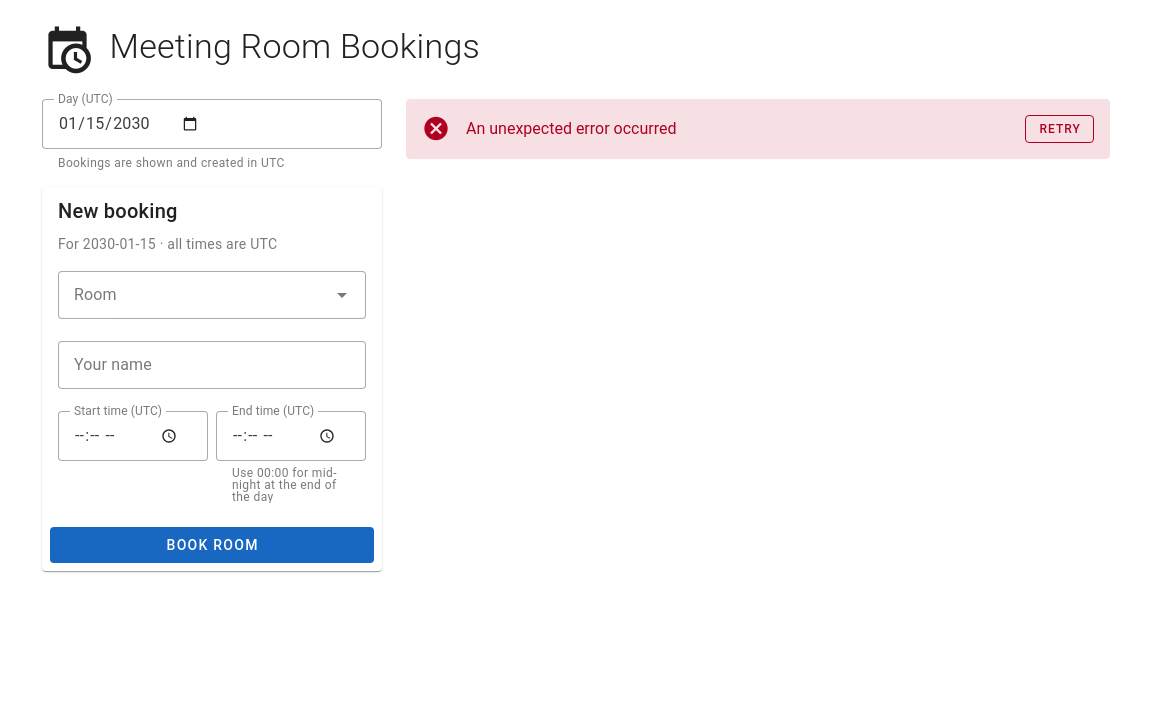
it: RoomBookings › shows a load error and recovers when Retry is clicked
Expected: the text "Room A" is not shown
Click the button "Retry" at (1060, 129), box [1025,115,1094,143]
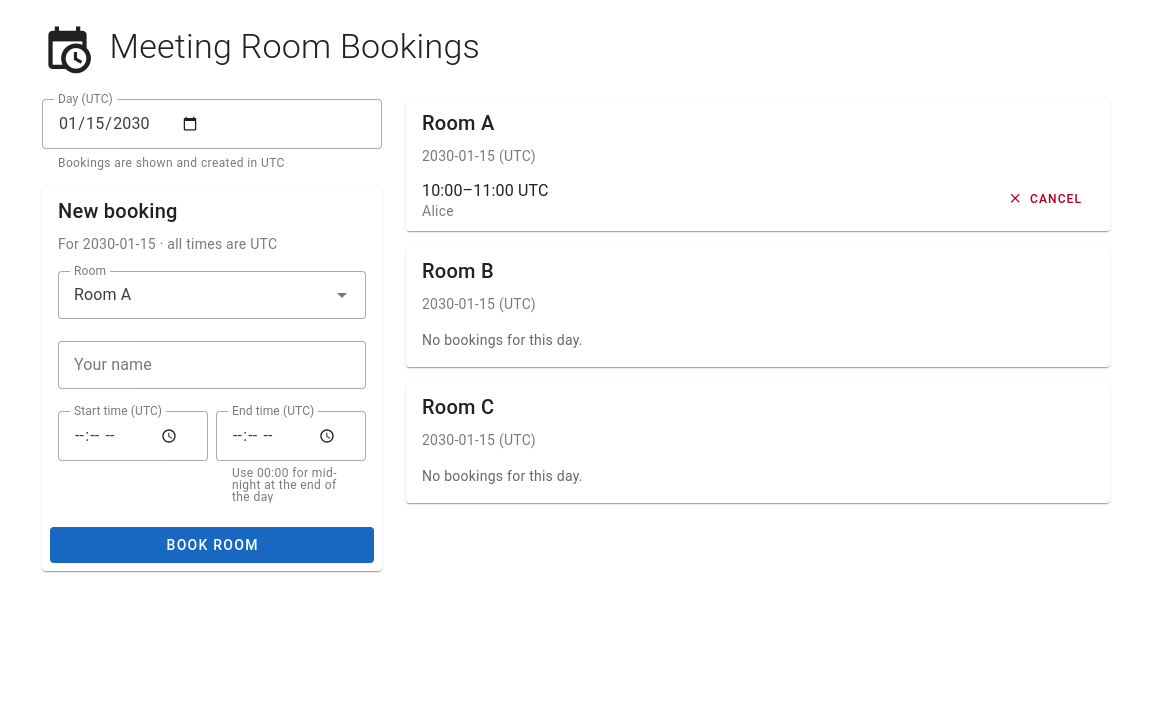
Now the text "An unexpected error occurred" is gone
Now the element showing "Room A 2030-01-15 (UTC) 10:00–11:00 UTC Alice Cancel" is shown, box [406,99,1110,231]
